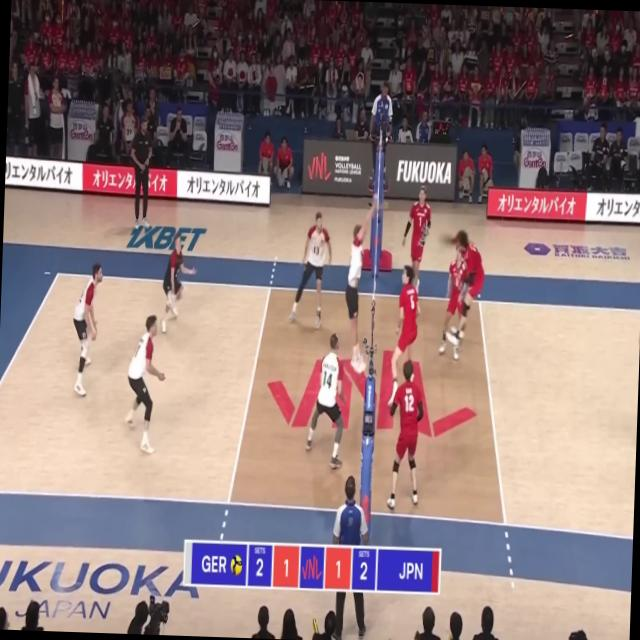referee: (328, 472, 373, 640)
team_one: (343, 195, 379, 374), (122, 312, 166, 454), (305, 332, 346, 468), (289, 210, 334, 328), (70, 262, 105, 401), (161, 231, 197, 321)
team_two: (386, 358, 428, 512), (388, 264, 420, 408), (400, 186, 432, 312), (448, 226, 484, 336), (438, 247, 464, 363)
